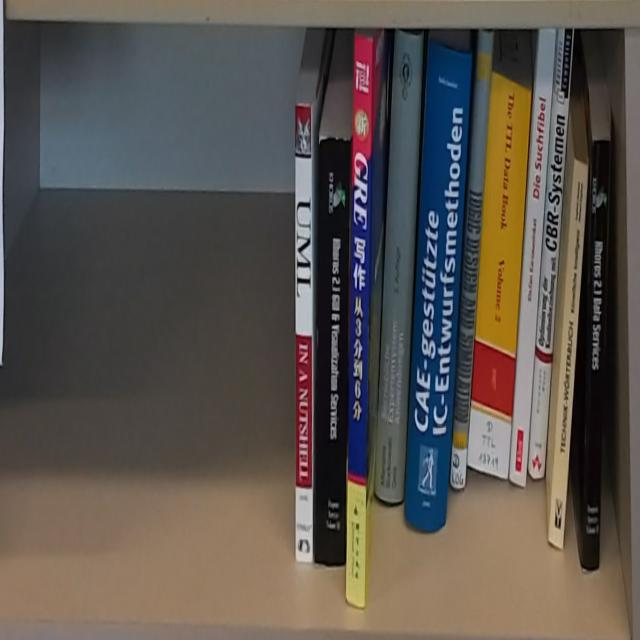Book Spine: (407, 38, 471, 532), (372, 30, 428, 512), (472, 75, 535, 481), (508, 26, 557, 486), (529, 27, 576, 482), (451, 28, 496, 491), (315, 136, 355, 572), (548, 157, 591, 549), (577, 134, 613, 568), (347, 36, 374, 614), (293, 106, 313, 565)
